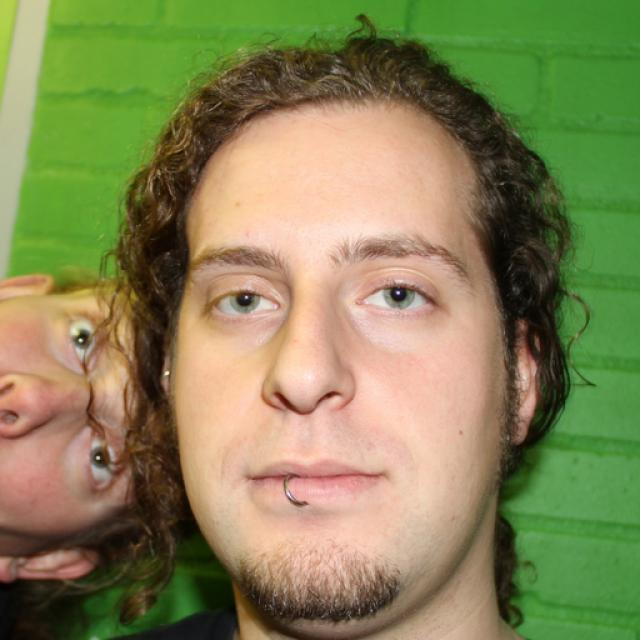content: (174, 101, 508, 624)
